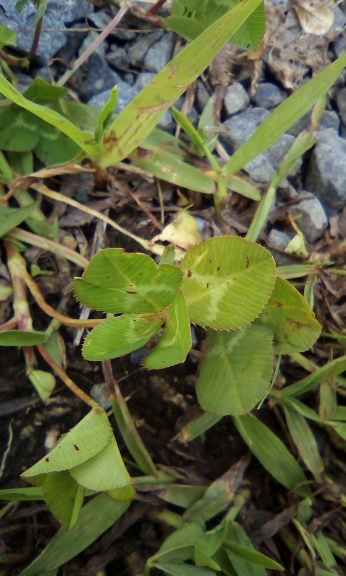4leaf: (71, 234, 276, 371)
